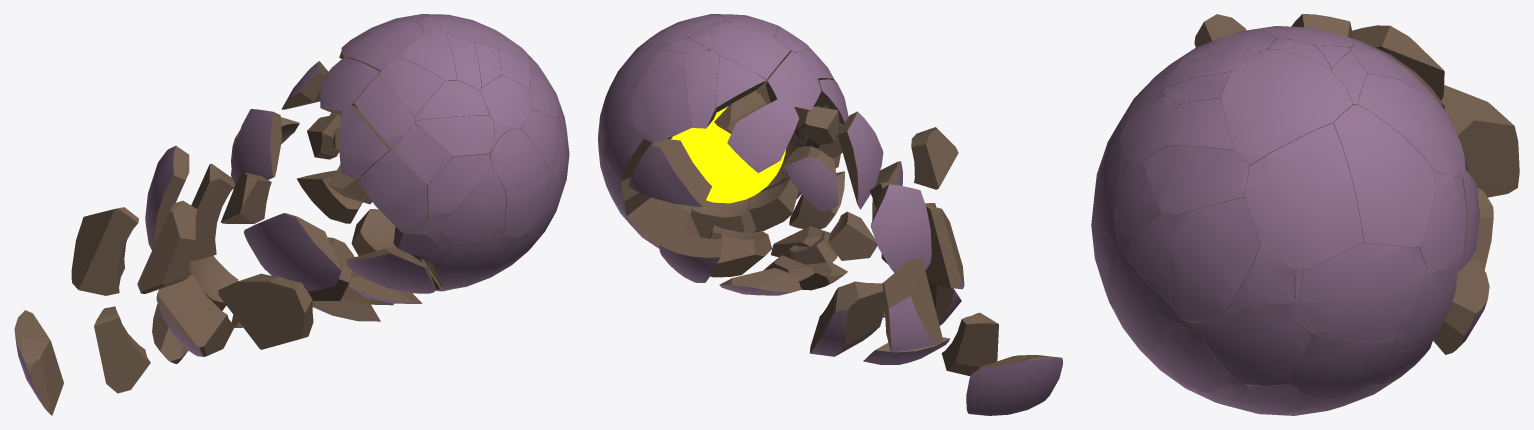
The model's file is Planet_Cracked.fbx.
3 views of the same model, side by side, from view 1: azimuth 30°, elevation 25°; view 2: azimuth 150°, elevation 25°; view 3: azimuth 270°, elevation 25° (orthographic). The views are drawn at different scales.
Parts seen in each view (by area): view 1: Cell; view 2: Cell, Cube; view 3: Cell.
Part boxes in pixels (bbox=[...]): Cell: bbox=[14, 14, 569, 415]; Cell: bbox=[598, 14, 1062, 415]; Cube: bbox=[671, 106, 785, 203]; Cell: bbox=[1091, 14, 1519, 415].
Bounding box in the file's own units: 473 × 280 × 246.
